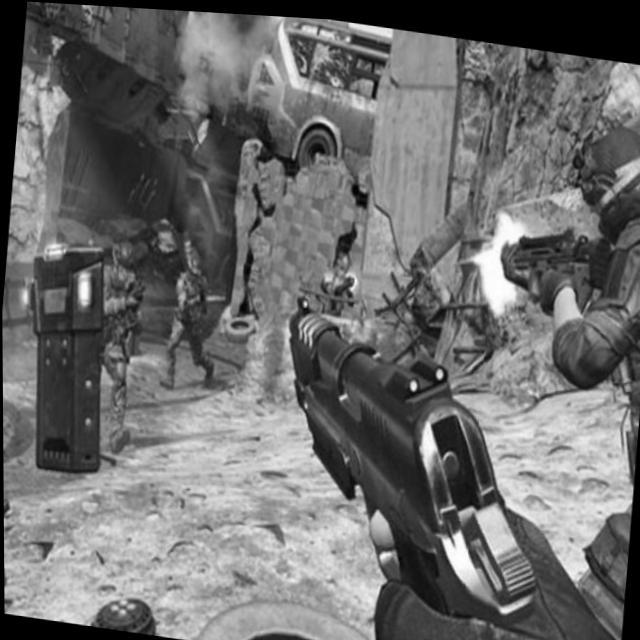weapon: (261, 286, 560, 640), (493, 217, 617, 314), (121, 279, 148, 332), (3, 492, 11, 547)
